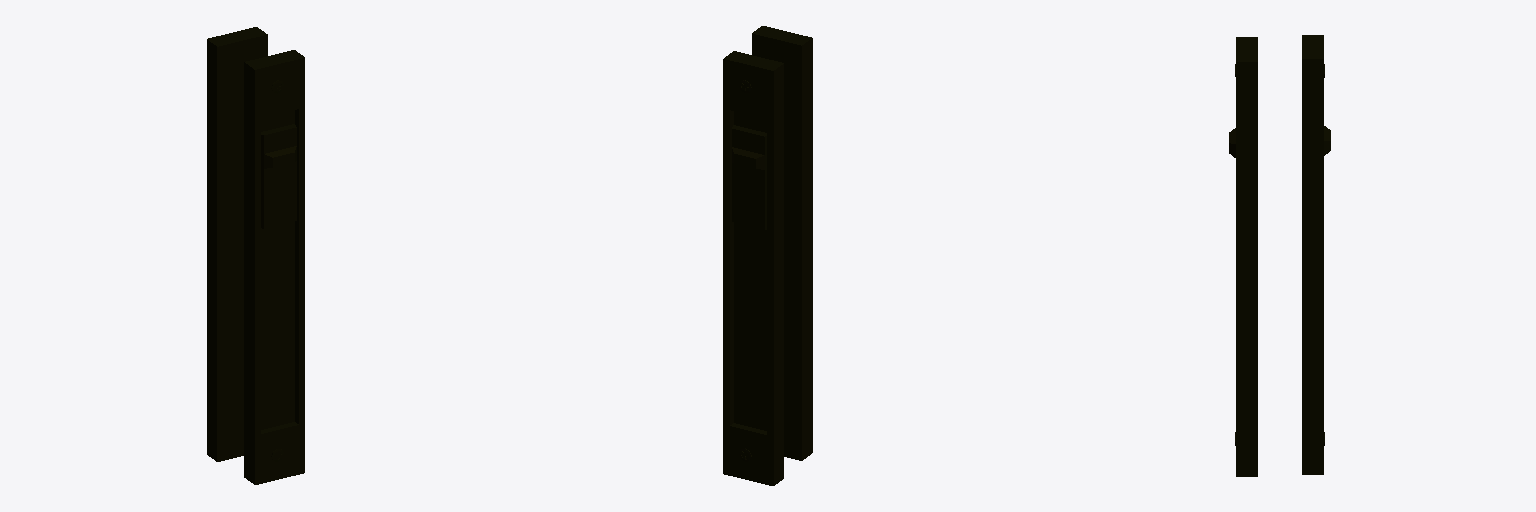
The model's file is garden-knob.obj.
3 views of the same model, side by side, from view 1: azimuth 30°, elevation 25°; view 2: azimuth 150°, elevation 25°; view 3: azimuth 270°, elevation 25° (orthographic).
Parts seen in each view (by area): view 1: Handle.001_Handle.004, Handle.002_Handle.001; view 2: Handle.002_Handle.001, Handle.001_Handle.004; view 3: Handle.001_Handle.004, Handle.002_Handle.001.
Boxes of the visible parts, <box> form: Handle.001_Handle.004: <box>244,50,304,484</box>; Handle.002_Handle.001: <box>207,27,267,461</box>; Handle.002_Handle.001: <box>723,51,783,485</box>; Handle.001_Handle.004: <box>752,26,812,460</box>; Handle.001_Handle.004: <box>1229,37,1257,476</box>; Handle.002_Handle.001: <box>1302,35,1330,474</box>.
Size of the model in its own units: 3.1 by 22.37 by 4.98.